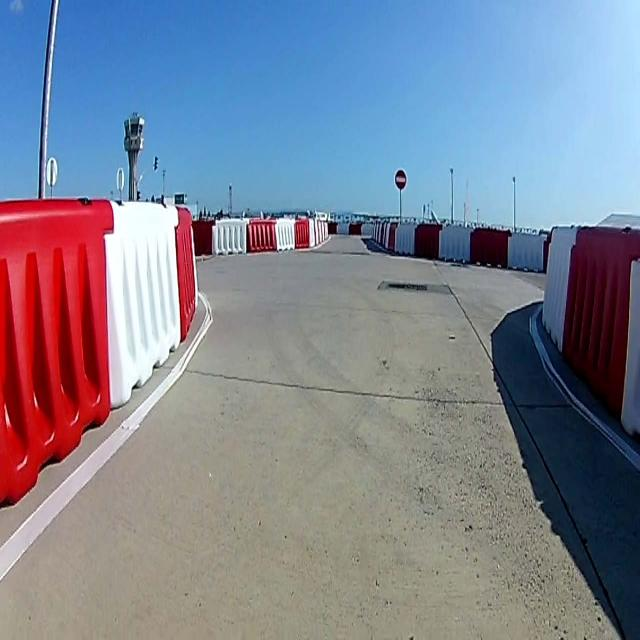girisyok: (395, 170, 407, 190)
